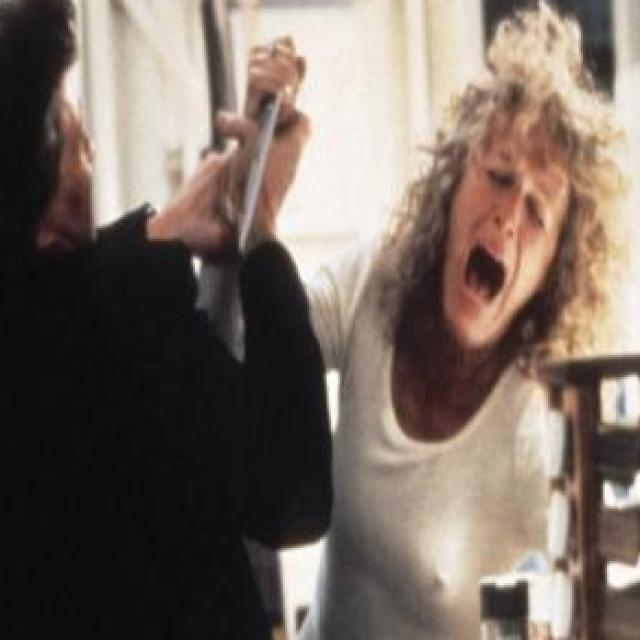knife: (226, 31, 313, 261)
